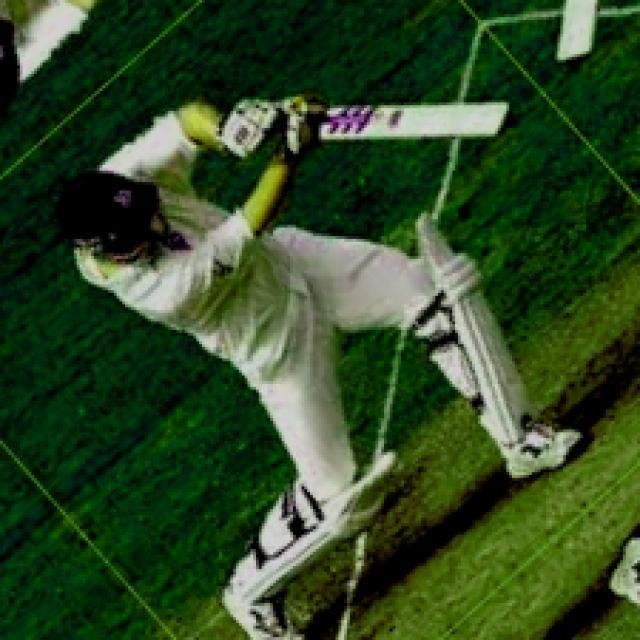bat: (305, 78, 516, 175)
toe: (491, 96, 516, 143)
